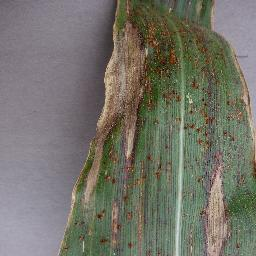Corn_Blight: (58, 119, 256, 256), (96, 0, 253, 118)
